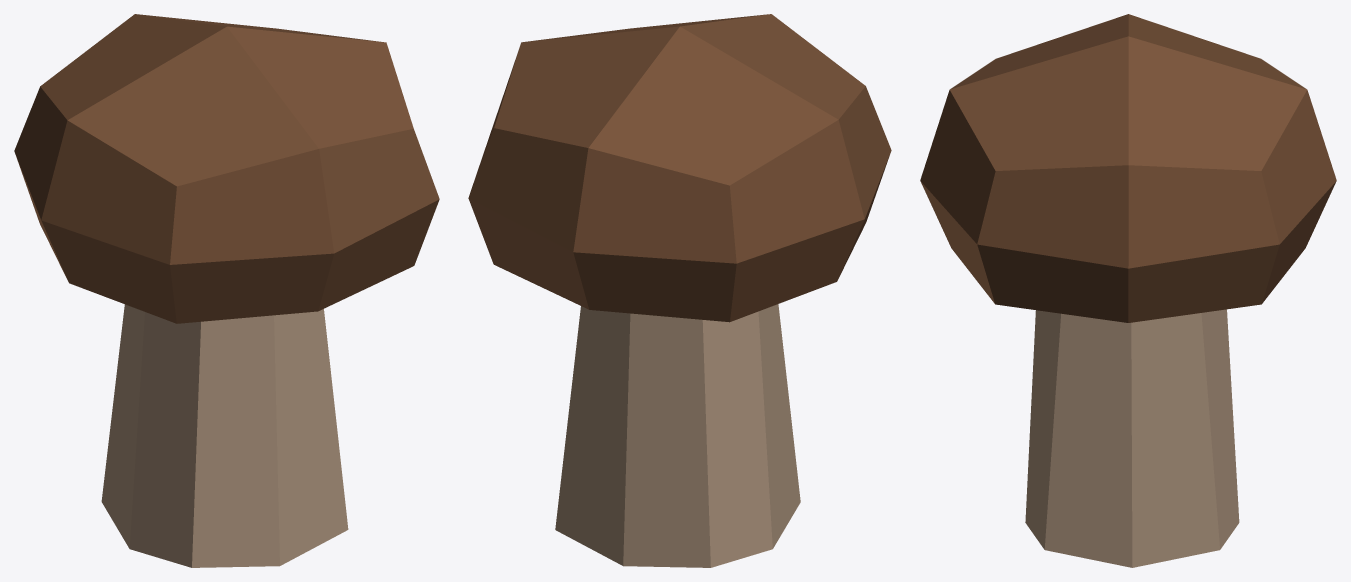
Rendered from Herkkutatti.fbx.
The picture shows the model from 3 angles, left to right: view 1: azimuth 30°, elevation 25°; view 2: azimuth 150°, elevation 25°; view 3: azimuth 270°, elevation 25°; orthographic projection. The views are drawn at different scales.
Visible parts, largest first — view 1: Cap.006, Leg.006; view 2: Cap.006, Leg.006; view 3: Cap.006, Leg.006.
Boxes of the visible parts, x1,y1,x2,y2 form: Cap.006: (14,14,439,323); Leg.006: (101,304,348,567); Cap.006: (468,14,891,322); Leg.006: (555,304,800,567); Cap.006: (920,14,1336,322); Leg.006: (1025,309,1239,567).
Size of the model in its own units: 15.23 by 20.82 by 15.23.
